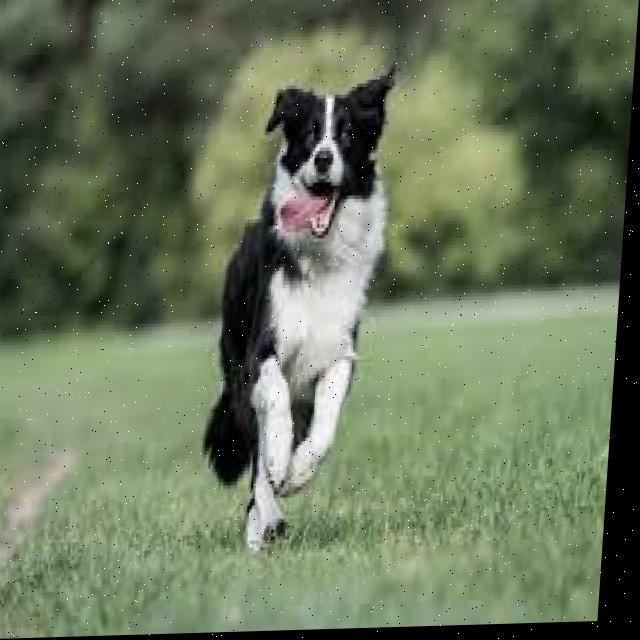BORDER_COLLIE: (187, 57, 417, 554)
